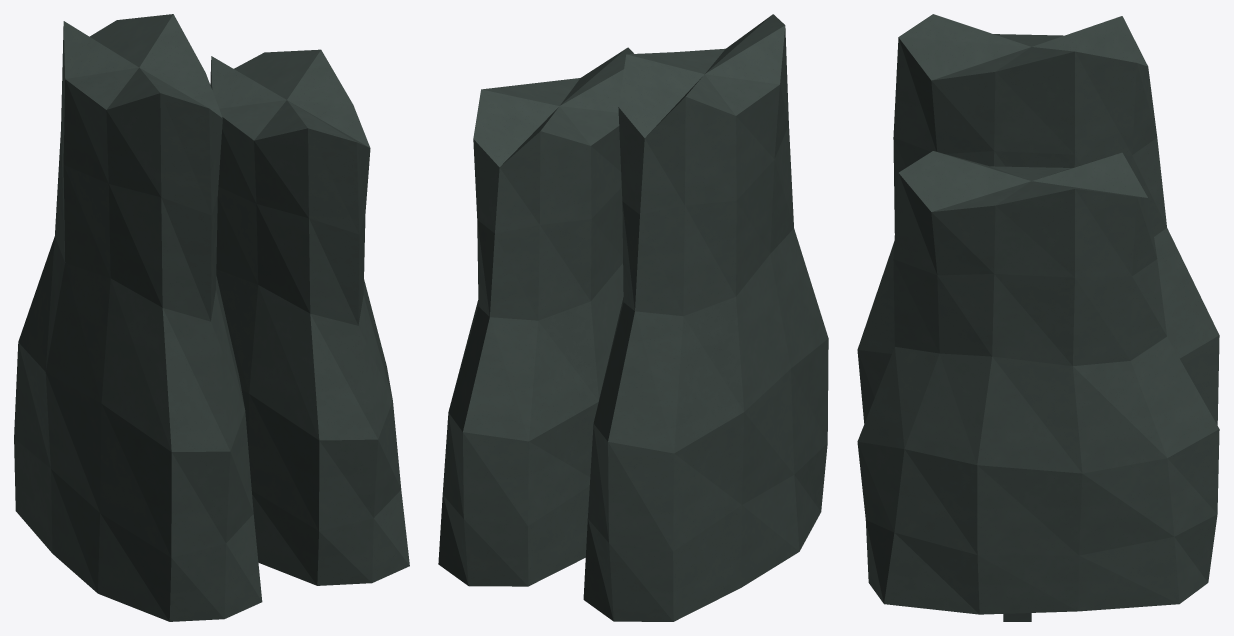
3 renders of one model, left to right at view 1: azimuth 30°, elevation 25°; view 2: azimuth 150°, elevation 25°; view 3: azimuth 270°, elevation 25°, orthographic. The views are drawn at different scales.
Visible parts, largest first — view 1: 破岩形状与干湿色尺寸族; view 2: 破岩形状与干湿色尺寸族; view 3: 破岩形状与干湿色尺寸族.
Part boxes in pixels (<box>): 破岩形状与干湿色尺寸族: <box>14,14,409,621</box>; 破岩形状与干湿色尺寸族: <box>438,14,828,621</box>; 破岩形状与干湿色尺寸族: <box>857,14,1219,621</box>.
Bounding box in the file's own units: 2.24 × 4.01 × 2.56.
2 materials, 2 textured.
